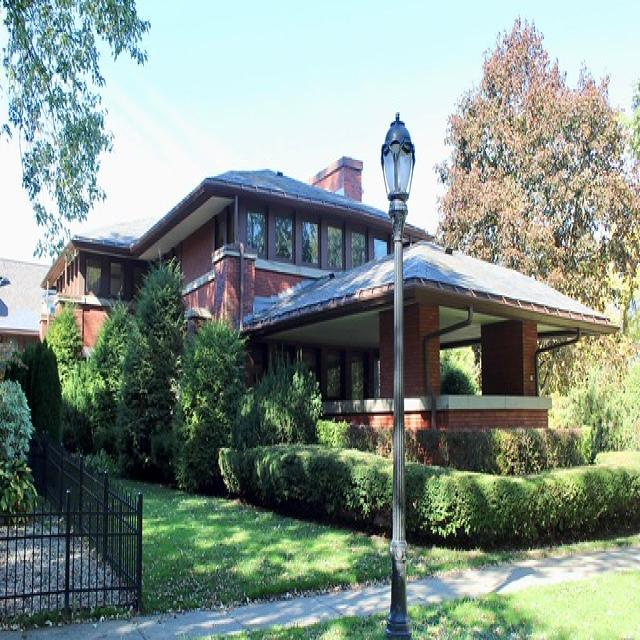building: (37, 147, 622, 472)
